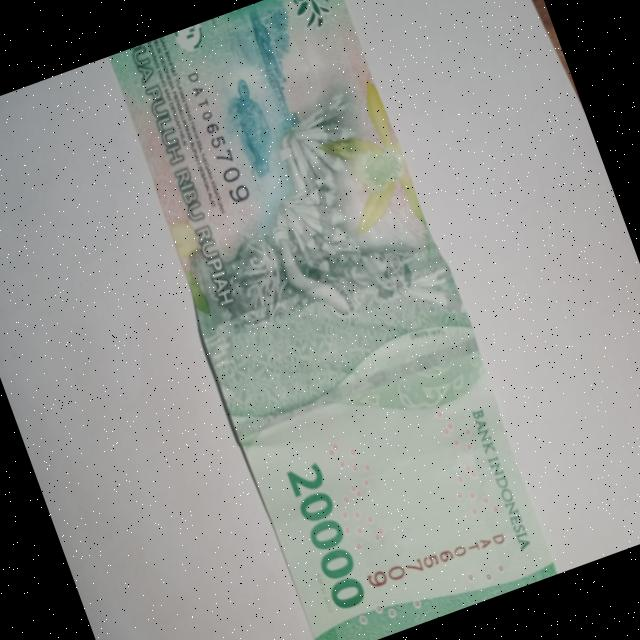20K: (99, 0, 565, 640)
